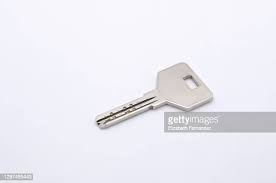key: (94, 61, 217, 132)
